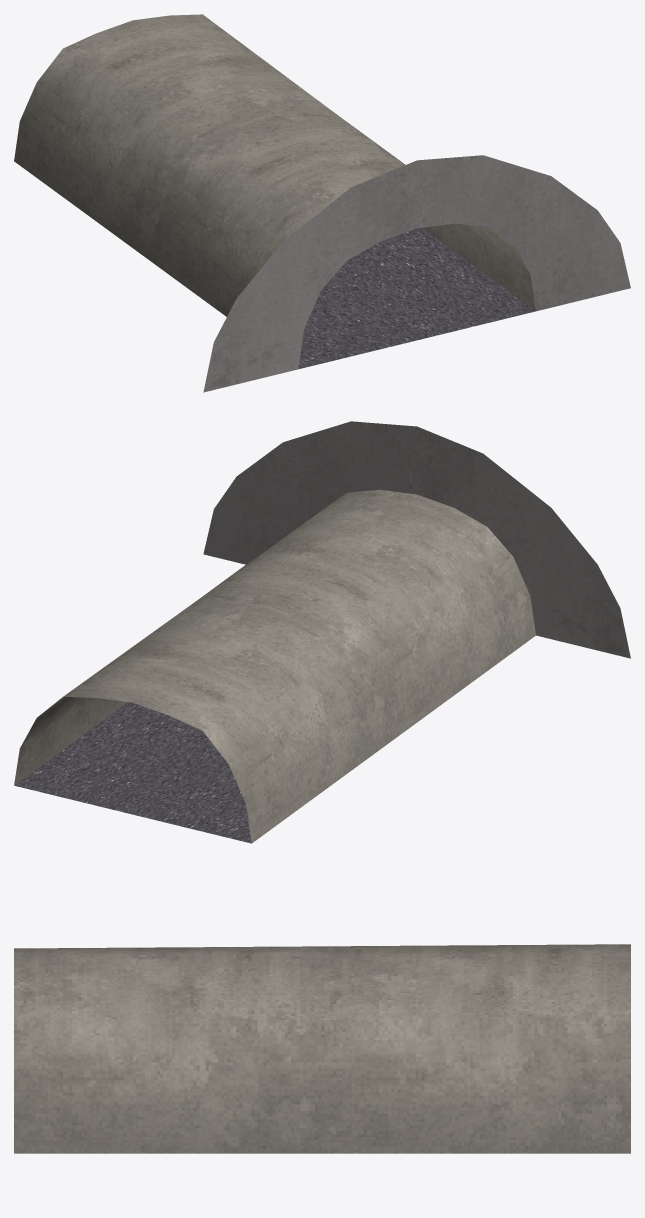
The model's file is Entrance.glb.
The picture shows the model from 3 angles, top to bottom: view 1: azimuth 30°, elevation 25°; view 2: azimuth 150°, elevation 25°; view 3: azimuth 270°, elevation 25°; orthographic projection. The views are drawn at different scales.
Parts seen in each view (by area): view 1: polySurface3; view 2: polySurface3; view 3: polySurface3.
Part boxes in pixels (<box>): polySurface3: <box>14,14,630,392</box>; polySurface3: <box>14,421,630,843</box>; polySurface3: <box>14,944,630,1153</box>.
Bounding box in the file's own units: 3.6 × 1.45 × 4.14.
1 material, 1 textured.
